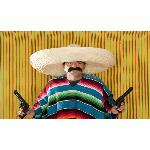Pistol: (103, 82, 131, 120), (11, 84, 34, 120)
